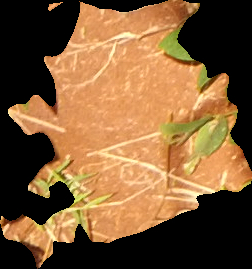soil: (3, 3, 249, 266)
